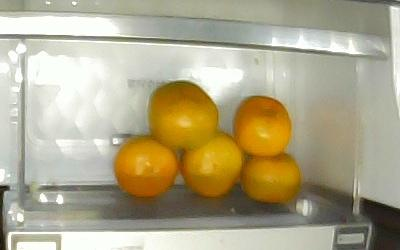persimmon: (146, 80, 218, 151), (177, 129, 244, 198), (114, 136, 178, 198), (231, 93, 292, 157), (238, 150, 301, 202)
